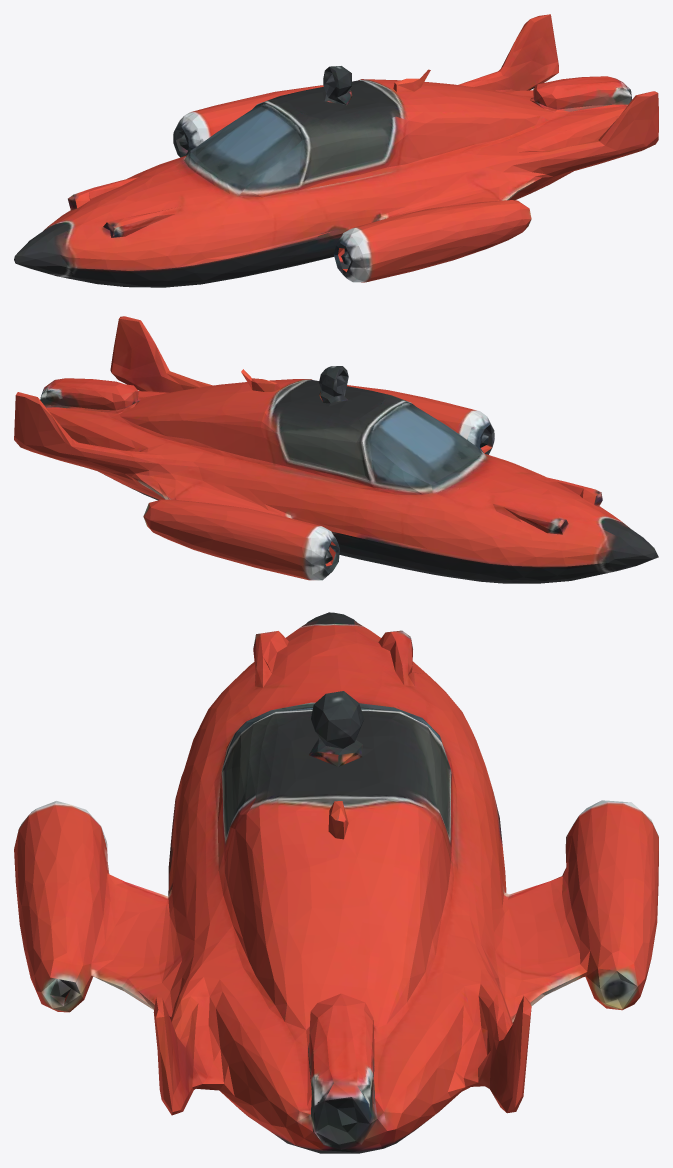
Rendered from patrol-car.glb.
The picture shows the model from 3 angles, top to bottom: view 1: azimuth 30°, elevation 25°; view 2: azimuth 150°, elevation 25°; view 3: azimuth 270°, elevation 25°; orthographic projection. The views are drawn at different scales.
Parts seen in each view (by area): view 1: figure; view 2: figure; view 3: figure.
Part boxes in pixels (x1,y1,x2,y2): figure: (14, 14, 658, 287); figure: (14, 316, 658, 583); figure: (14, 612, 658, 1153).
Size of the model in its own units: 3.68 by 1 by 1.92.
1 material, 1 textured.
